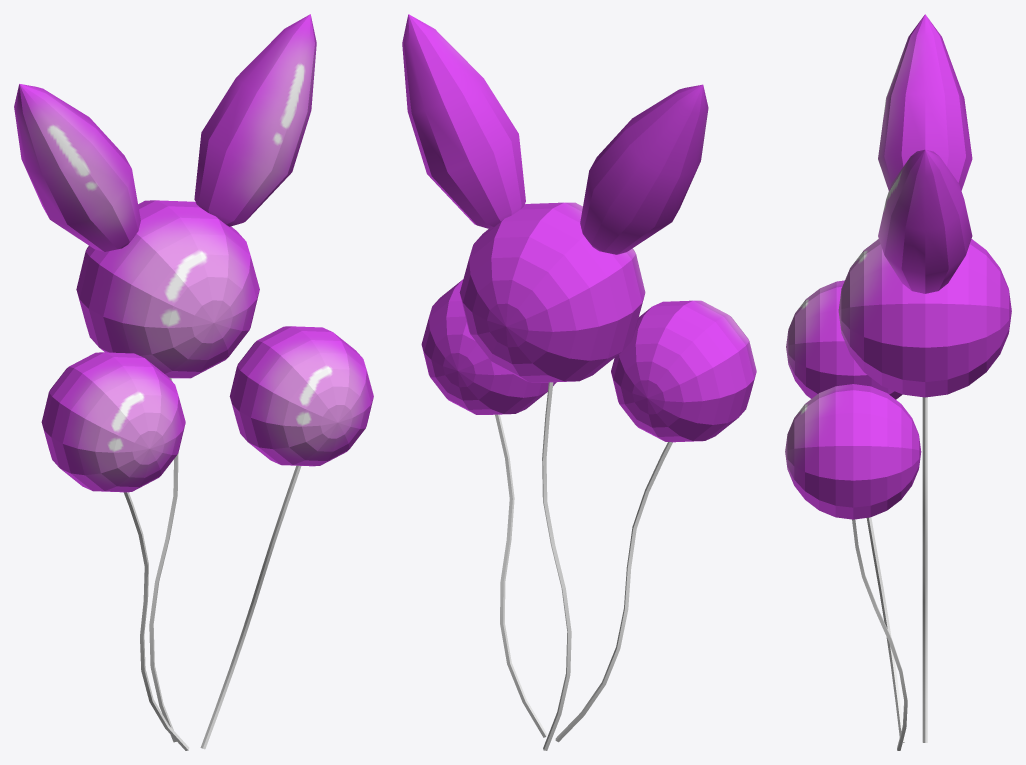
Rendered from Balloon.fbx.
3 renders of one model, left to right at view 1: azimuth 30°, elevation 25°; view 2: azimuth 150°, elevation 25°; view 3: azimuth 270°, elevation 25°, orthographic. The views are drawn at different scales.
Visible parts, largest first — view 1: balloon; view 2: balloon; view 3: balloon.
Part boxes in pixels (x1,y1,x2,y2): balloon: (14,14,373,750); balloon: (402,14,756,750); balloon: (785,14,1011,750).
Size of the model in its own units: 0.7152 by 1.52 by 0.4759.
1 material, 1 textured.
